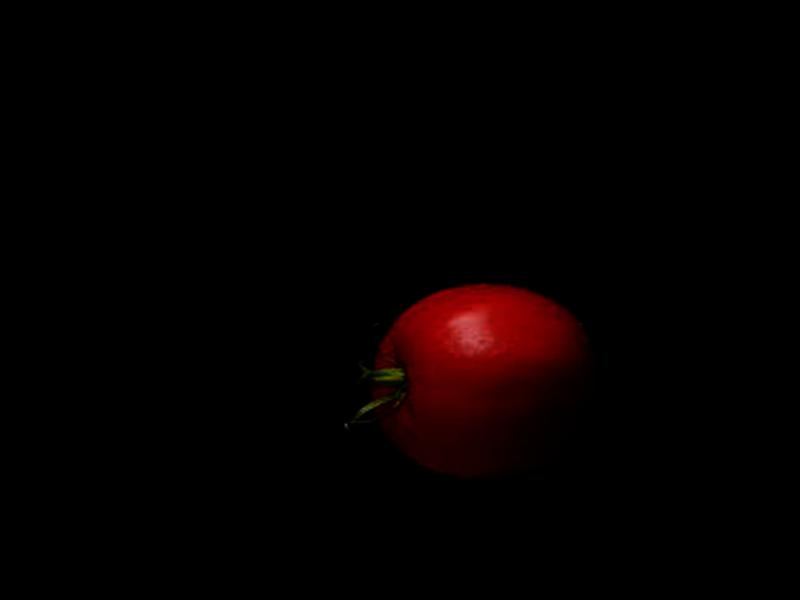Tomato: (366, 279, 595, 484)
